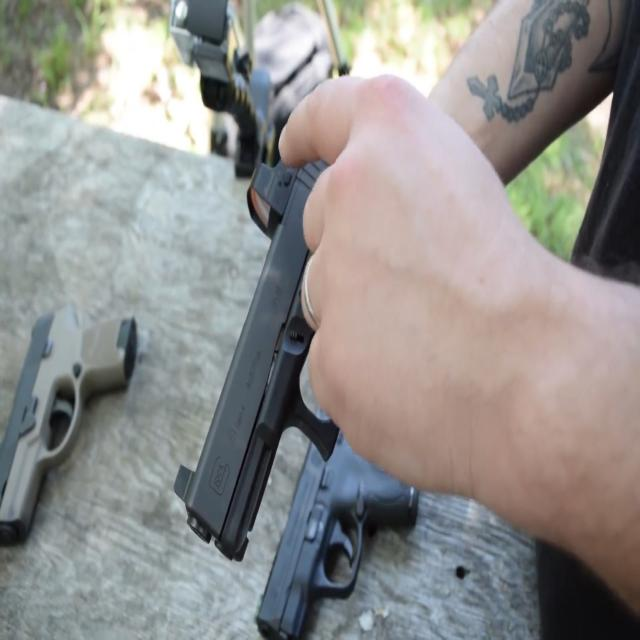handgun: (167, 103, 388, 559), (0, 263, 165, 586), (235, 391, 438, 640)
